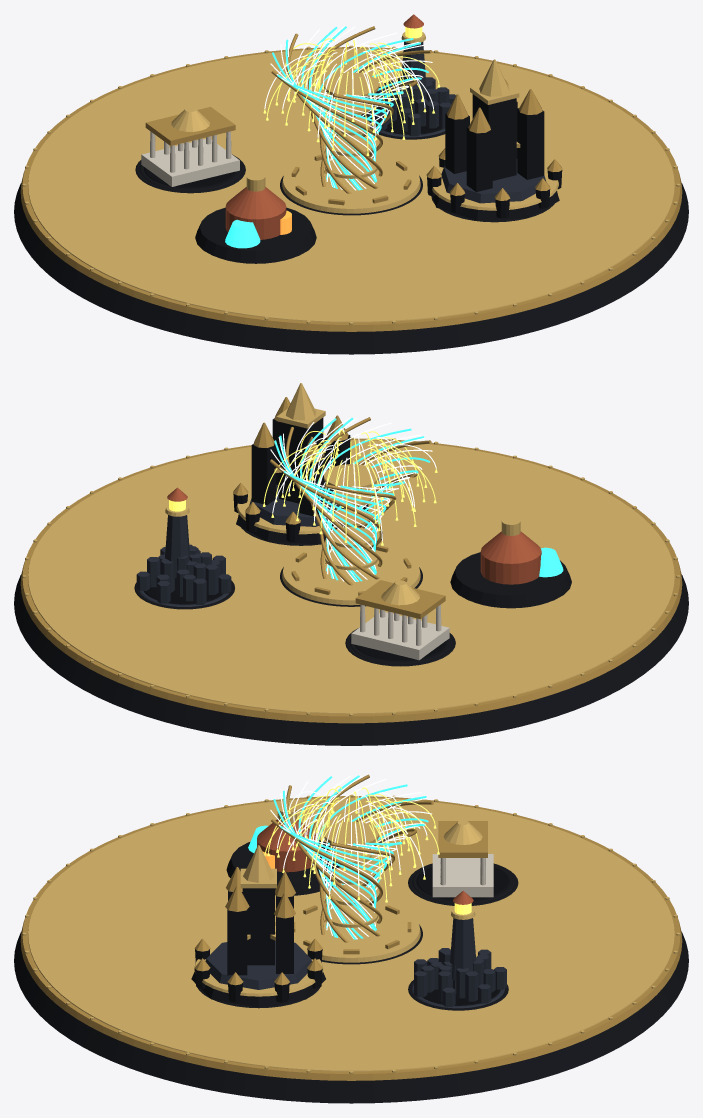
Rendered from citadel_table_v5.glb.
3 views of the same model, one above another, from view 1: azimuth 30°, elevation 25°; view 2: azimuth 150°, elevation 25°; view 3: azimuth 270°, elevation 25° (orthographic).
Parts seen in each view (by area): view 1: MESH_Brass_Bezel_Lip, MESH_Table_BasePlinth, MESH_Brass_Bezel_Outer, MESH_Well_OuterRim, MESH_WS_Plinth, MESH_Campus_Plinth, MESH_City_CentralKeep, MESH_City_Tower_FullStackLoom, MESH_City_CurtainWall_T2, MESH_City_Tower_ClientBridge, MESH_Campus_Entablature, MESH_WS_CopperDome (+16 smaller); view 2: MESH_Brass_Bezel_Lip, MESH_Table_BasePlinth, MESH_Brass_Bezel_Outer, MESH_Well_OuterRim, MESH_WS_Plinth, MESH_Campus_Plinth, MESH_City_CentralKeep, MESH_Campus_Entablature, MESH_WS_CopperDome, MESH_City_Tower_ReleaseGate, MESH_WS_CopperDrum, MESH_City_CurtainWall_T2 (+12 smaller); view 3: MESH_Brass_Bezel_Lip, MESH_Table_BasePlinth, MESH_Brass_Bezel_Outer, MESH_Well_OuterRim, MESH_Campus_Plinth, MESH_City_CentralKeep, MESH_City_CurtainWall_T2, MESH_City_Tower_FullStackLoom, MESH_WS_Plinth, MESH_Bootcamp_Lighthouse, MESH_Campus_Entablature, MESH_City_CurtainWall_T1 (+15 smaller).
Boxes of the visible parts, box(x1,y1,x2,y2) form: MESH_Brass_Bezel_Lip: box(28, 48, 674, 322); MESH_Table_BasePlinth: box(14, 183, 688, 354); MESH_Brass_Bezel_Outer: box(20, 47, 682, 331); MESH_Well_OuterRim: box(282, 153, 420, 213); MESH_WS_Plinth: box(195, 207, 316, 263); MESH_Campus_Plinth: box(141, 139, 239, 186); MESH_City_CentralKeep: box(472, 94, 516, 180); MESH_City_Tower_FullStackLoom: box(517, 108, 544, 179); MESH_City_CurtainWall_T2: box(441, 159, 546, 203); MESH_City_Tower_ClientBridge: box(466, 126, 492, 191); MESH_Campus_Entablature: box(145, 107, 235, 145); MESH_WS_CopperDome: box(225, 187, 286, 219); MESH_Brass_Bezel_Lip: box(28, 440, 674, 714); MESH_Table_BasePlinth: box(14, 574, 688, 745); MESH_Brass_Bezel_Outer: box(20, 438, 682, 723); MESH_Well_OuterRim: box(282, 543, 420, 605); MESH_WS_Plinth: box(450, 552, 571, 607); MESH_Campus_Plinth: box(351, 612, 449, 660); MESH_City_CentralKeep: box(279, 417, 323, 503); MESH_Campus_Entablature: box(355, 580, 445, 618); MESH_WS_CopperDome: box(481, 531, 541, 563); MESH_City_Tower_ReleaseGate: box(251, 443, 276, 504); MESH_WS_CopperDrum: box(480, 551, 541, 584); MESH_City_CurtainWall_T2: box(249, 484, 345, 526); MESH_Brass_Bezel_Lip: box(28, 797, 674, 1071); MESH_Table_BasePlinth: box(14, 932, 688, 1103); MESH_Brass_Bezel_Outer: box(20, 796, 682, 1080); MESH_Well_OuterRim: box(294, 901, 420, 962); MESH_Campus_Plinth: box(432, 854, 493, 897); MESH_City_CentralKeep: box(242, 888, 274, 965); MESH_City_CurtainWall_T2: box(205, 940, 311, 989); MESH_City_Tower_FullStackLoom: box(227, 909, 247, 975); MESH_WS_Plinth: box(226, 840, 340, 894); MESH_Bootcamp_Lighthouse: box(450, 918, 476, 980); MESH_Campus_Entablature: box(438, 821, 487, 857); MESH_City_CurtainWall_T1: box(191, 972, 325, 1007).
Size of the model in its own units: 14.2 by 3.77 by 14.2.
